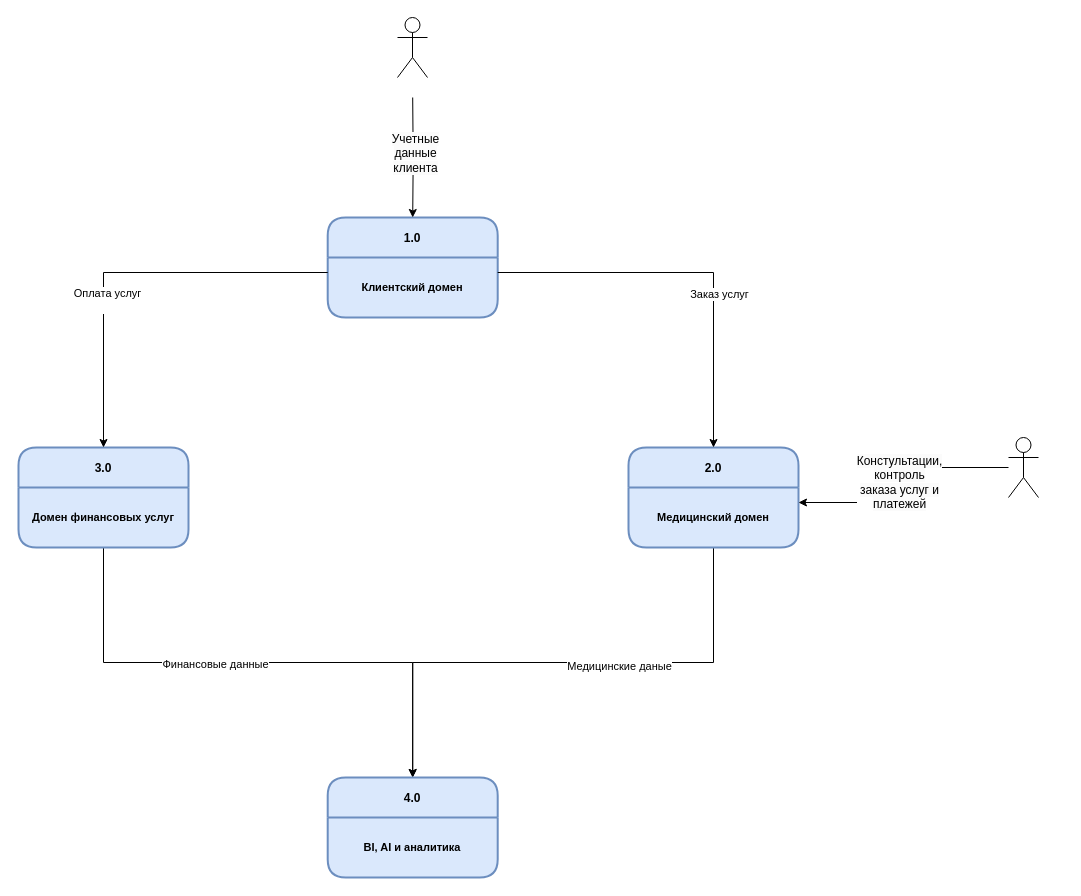
Some shapes in this 1081 by 896 pixel diagram are drawn without their labels. Each missing label, with the centre of its shape:
"Клиент" belongs at pixel 412 47.
"Медицинский сотрудник" belongs at pixel 1023 467.
